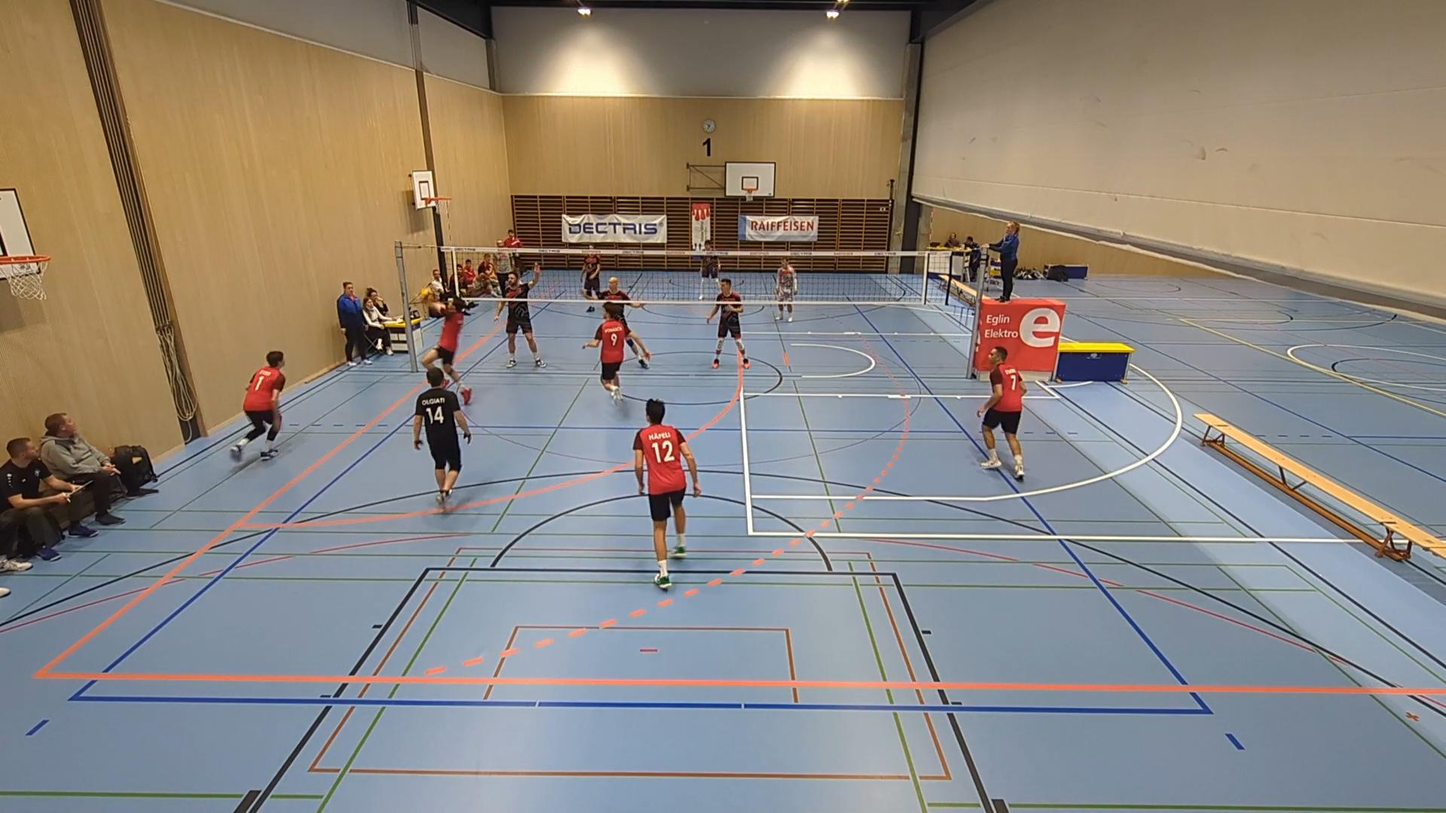alzata: (414, 288, 471, 392)
